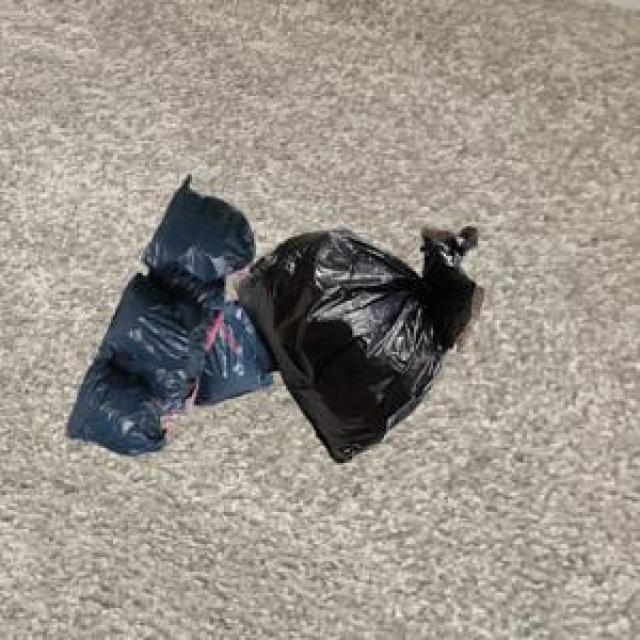miscellaneous trash: (228, 222, 480, 459), (62, 171, 250, 452), (88, 292, 275, 412)
